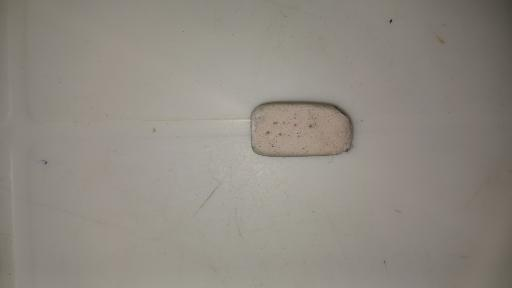Eraser: (251, 101, 355, 155)
